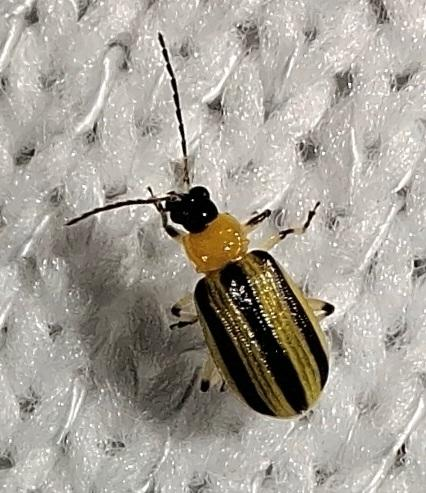potato_beetle: (24, 0, 426, 493)
